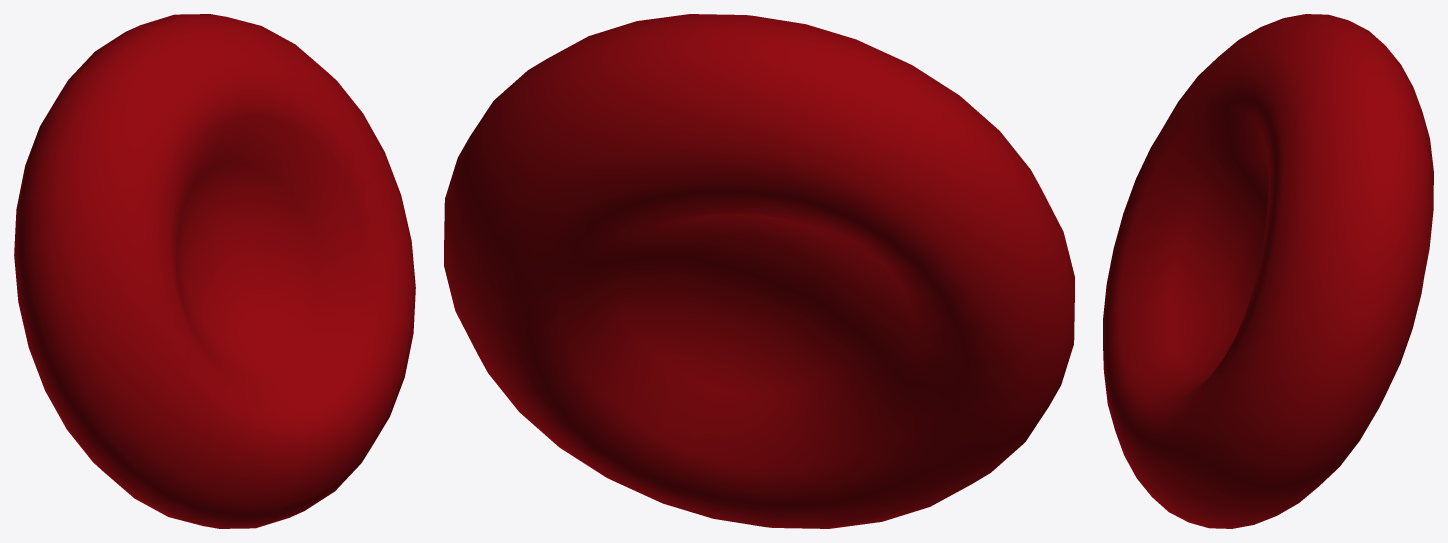
File: RedBloodCell.glb
3 renders of one model, left to right at view 1: azimuth 30°, elevation 25°; view 2: azimuth 150°, elevation 25°; view 3: azimuth 270°, elevation 25°, orthographic. The views are drawn at different scales.
Parts seen in each view (by area): view 1: Sphere; view 2: Sphere; view 3: Sphere.
Part boxes in pixels (box(x1,y1,x2,y2)): Sphere: box(14, 14, 415, 528); Sphere: box(444, 14, 1074, 528); Sphere: box(1103, 14, 1433, 528).
Bounding box in the file's own units: 9.23 × 9.42 × 6.23.
